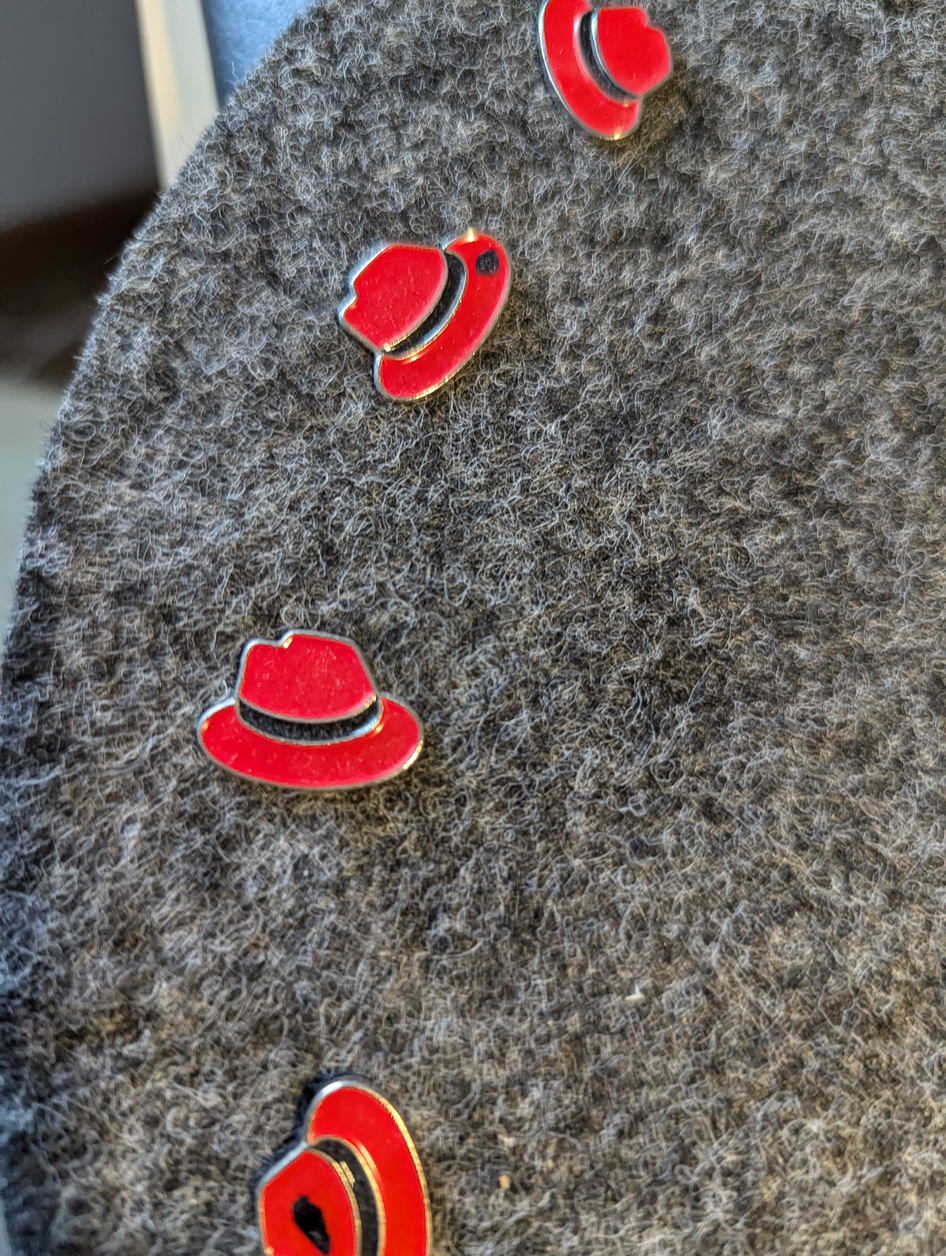Red-Hat: (168, 619, 443, 823), (214, 1053, 464, 1256), (323, 215, 533, 424), (520, 0, 675, 169)
Scratch: (277, 1185, 358, 1256), (458, 237, 528, 285)
